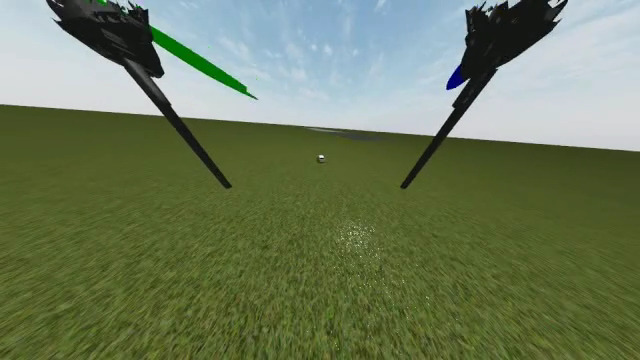Car: (316, 154, 326, 163)
